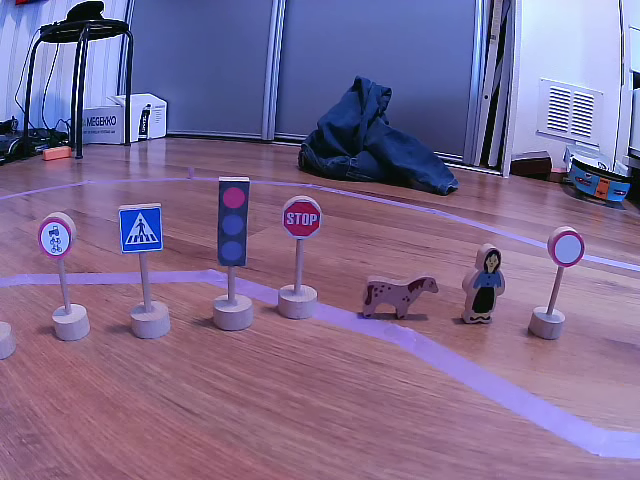fietspad: (38, 218, 73, 258)
mens: (458, 245, 506, 325)
paard: (360, 273, 438, 315)
roodlicht: (217, 178, 252, 269)
stopbord: (283, 195, 321, 238)
wegdicht: (550, 228, 585, 267)
zebrapad: (120, 205, 163, 252)
